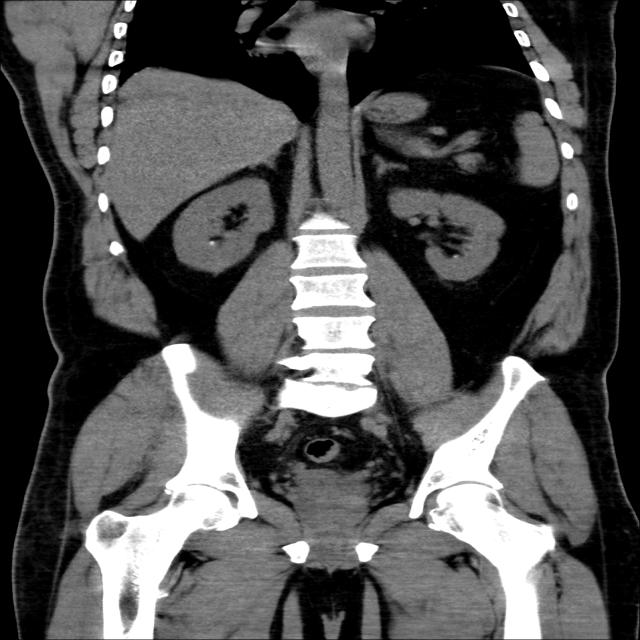kidneystone: (449, 251, 462, 258), (206, 236, 213, 244)
